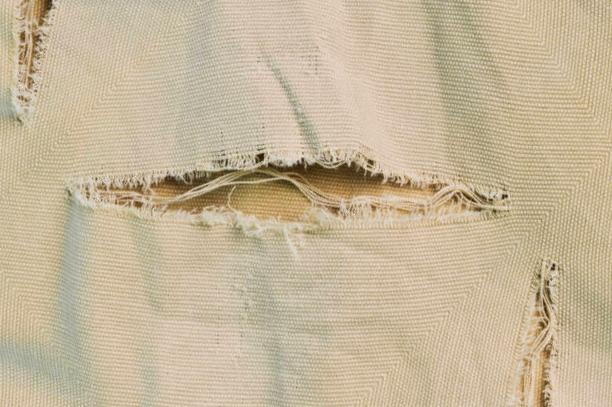hole: (57, 150, 513, 235), (504, 257, 569, 406), (8, 1, 56, 133)
